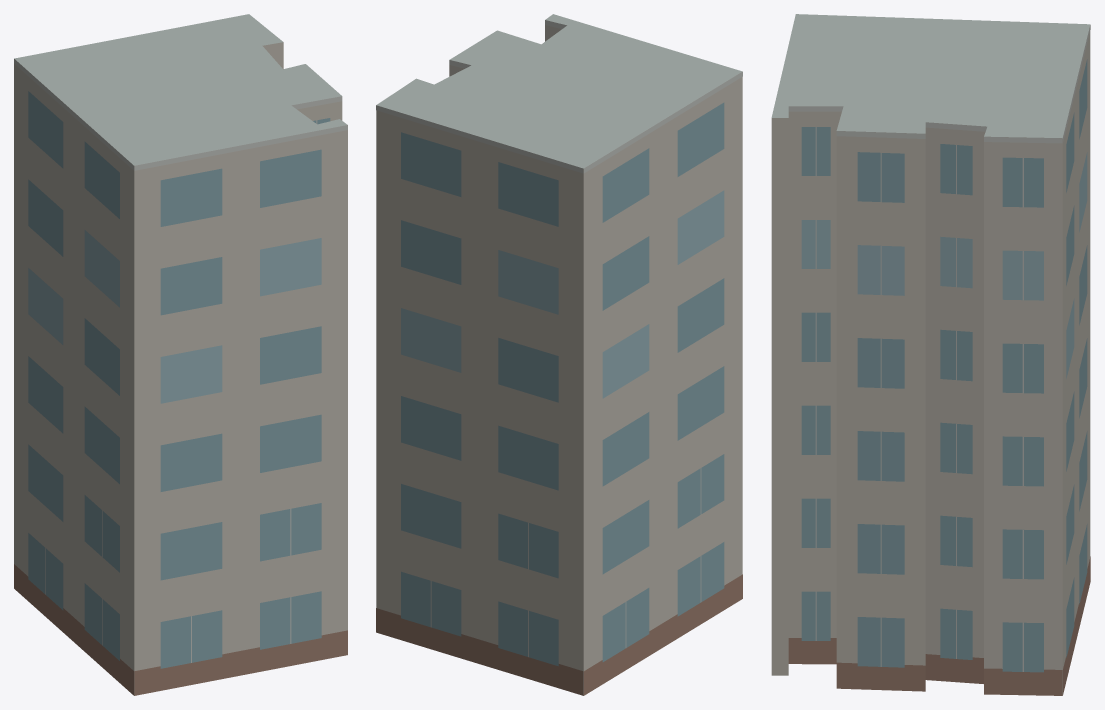
File: survey-upis-32848753.glb
3 renders of one model, left to right at view 1: azimuth 30°, elevation 25°; view 2: azimuth 150°, elevation 25°; view 3: azimuth 270°, elevation 25°, orthographic. The views are drawn at different scales.
Visible parts, largest first — view 1: survey-upis-32848753.tmp; view 2: survey-upis-32848753.tmp; view 3: survey-upis-32848753.tmp.
Part boxes in pixels (bbox=[...]): survey-upis-32848753.tmp: bbox=[14, 14, 347, 695]; survey-upis-32848753.tmp: bbox=[376, 14, 742, 695]; survey-upis-32848753.tmp: bbox=[771, 14, 1090, 695].
Bounding box in the file's own units: 12.18 × 25.5 × 13.22.
